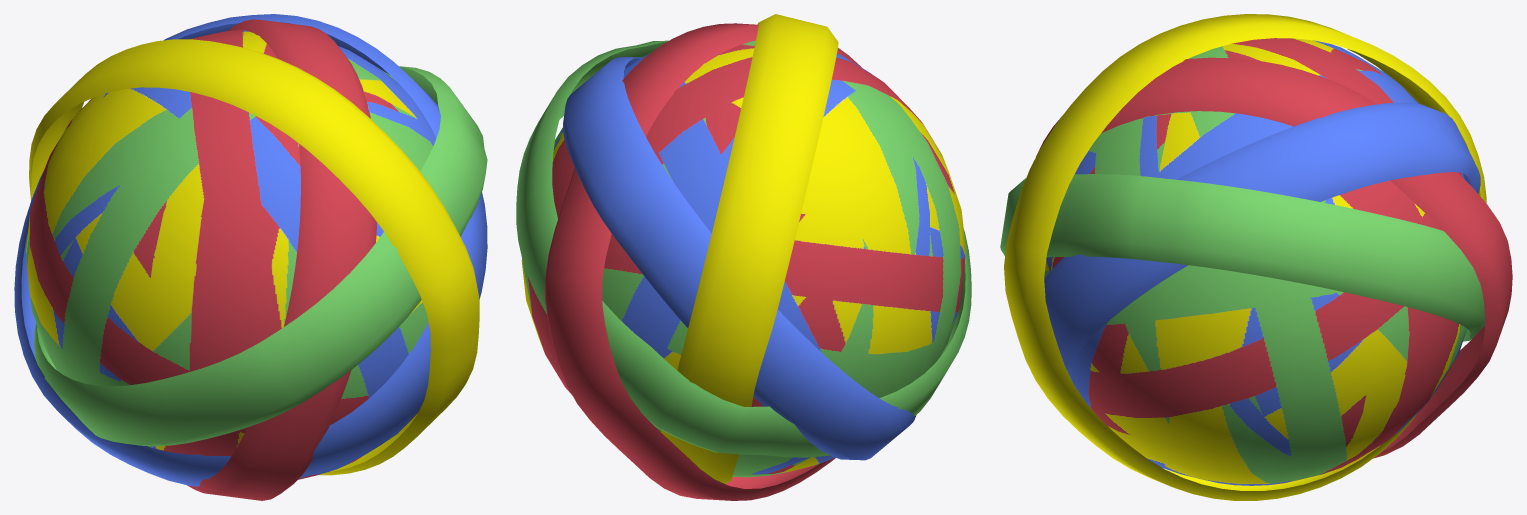
File: rubber_ball.glb
The picture shows the model from 3 angles, left to right: view 1: azimuth 30°, elevation 25°; view 2: azimuth 150°, elevation 25°; view 3: azimuth 270°, elevation 25°; orthographic projection. The views are drawn at different scales.
Parts seen in each view (by area): view 1: Cube.002, Sphere.001; view 2: Cube.002, Sphere.001; view 3: Cube.002, Sphere.001.
Boxes of the visible parts, x1,y1,x2,y2 form: Cube.002: (14, 14, 487, 500); Sphere.001: (26, 29, 436, 479); Cube.002: (516, 14, 971, 500); Sphere.001: (521, 40, 965, 477); Cube.002: (1000, 14, 1512, 500); Sphere.001: (1044, 38, 1466, 485).
Size of the model in its own units: 2.02 by 2.13 by 2.24.
Materials: 2 (2 with a texture image).
